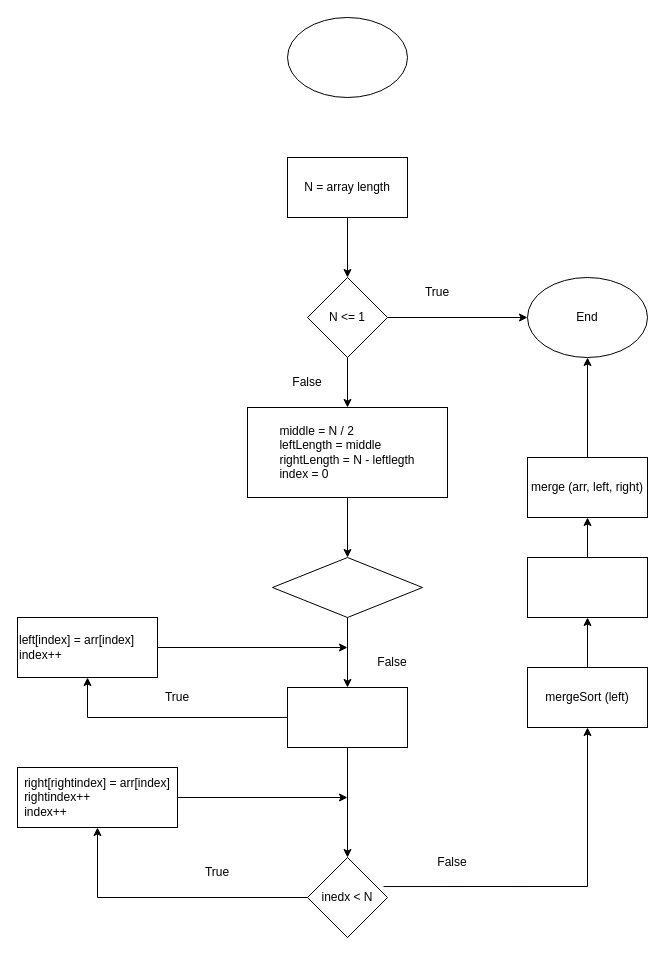
This 665x955 diagram has some shape labels left out. The centre of each missing label's shape, as x and y in pixels:
begin: [347,57]
index < middle: [347,587]
mergeSott (right): [587,587]
rightIndex = 0 index = middle: [347,717]
